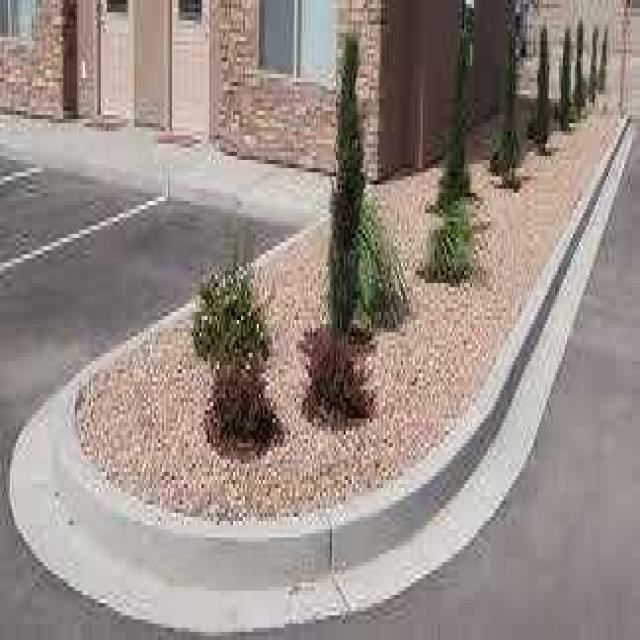curb: (16, 487, 425, 626), (416, 342, 552, 531), (80, 172, 313, 237), (30, 388, 106, 485), (530, 226, 602, 323), (596, 105, 640, 208)
